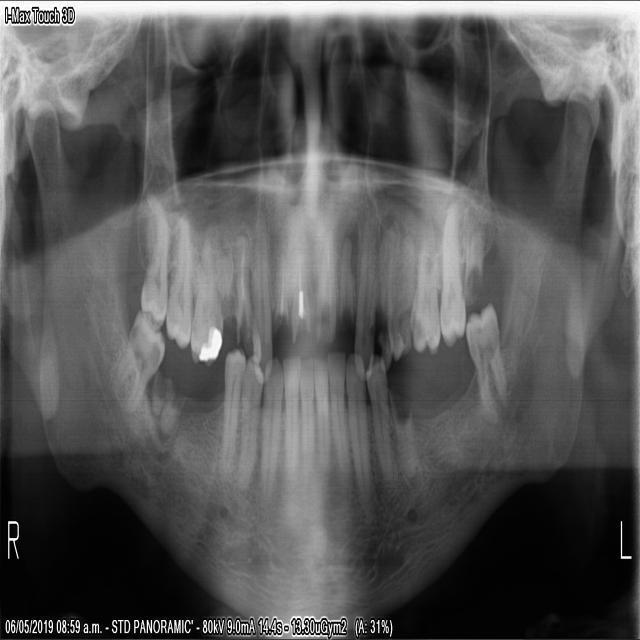LCD: (342, 345, 372, 506)
LCU: (351, 199, 379, 388)
LID: (325, 343, 353, 491), (308, 350, 331, 483)
LIU: (309, 217, 337, 353), (335, 225, 356, 339)
LMD: (460, 293, 507, 431)
LMU: (436, 187, 465, 352), (407, 226, 441, 363)
LPMD: (364, 342, 396, 490)
LPMU: (385, 220, 416, 365), (369, 220, 394, 371)
RCD: (255, 348, 283, 506)
RCU: (248, 210, 274, 391)
RID: (280, 343, 300, 483), (296, 344, 315, 485)
RIU: (288, 217, 313, 353)
RMD: (104, 299, 167, 421)
RMU: (136, 188, 172, 330), (161, 204, 194, 353)
RPMD: (233, 347, 264, 497), (216, 339, 246, 491)
RPMU: (187, 226, 225, 371)
